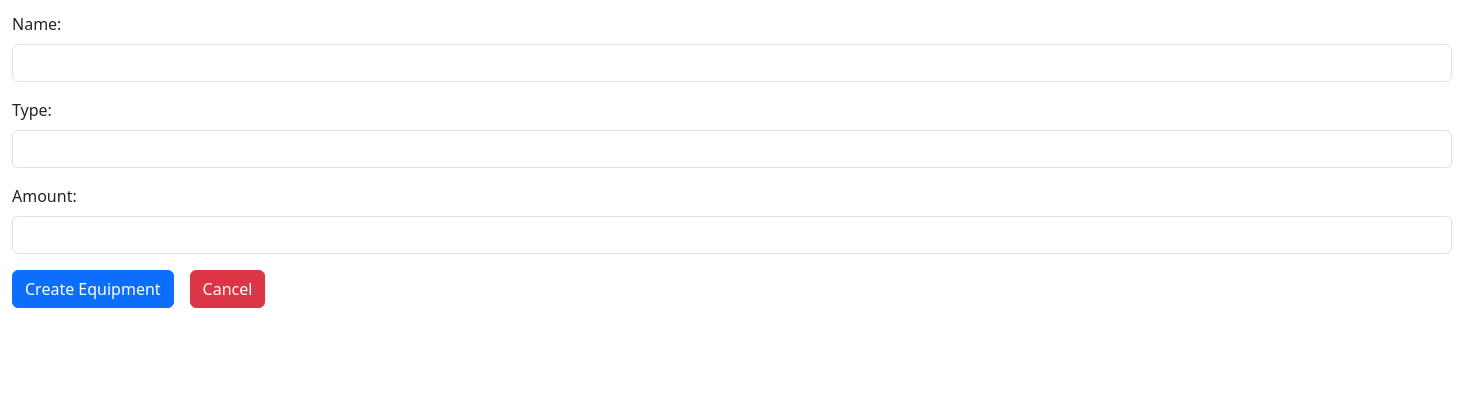
equipment creation and update pages › stays on the form and shows an error when creation fails
Type "Laptop" into the field labelled "Name:".
click(732, 63); type("Laptop")  # box [12,44,1452,82]
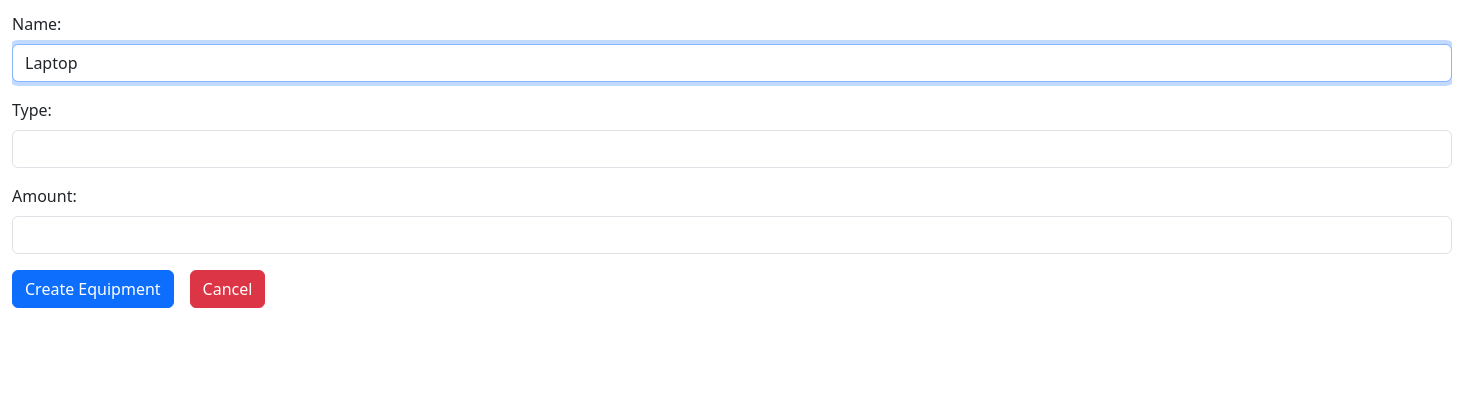
Type "Computer" into the field labelled "Type:".
click(732, 149); type("Computer")  # box [12,130,1452,168]
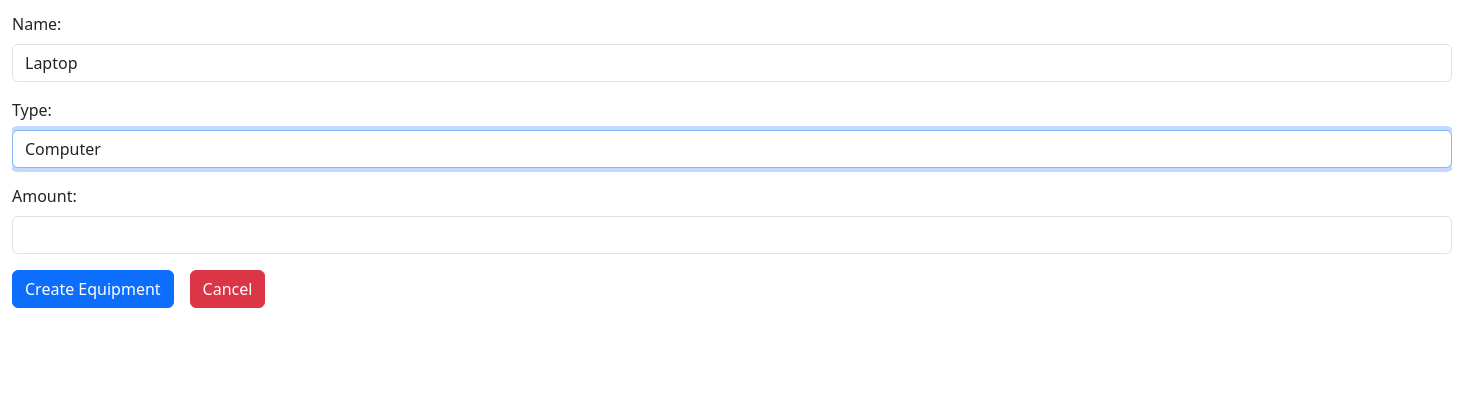
Type "2" into the number field labelled "Amount:".
click(732, 235); type("2")  # box [12,216,1452,254]
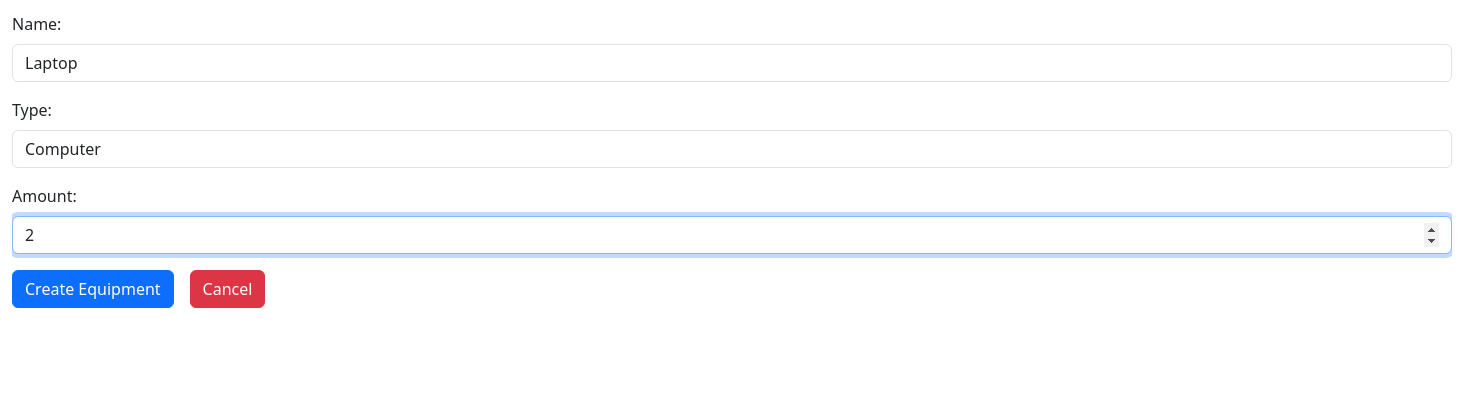
Click the button "Create Equipment".
click(93, 289)  # box [12,270,174,308]
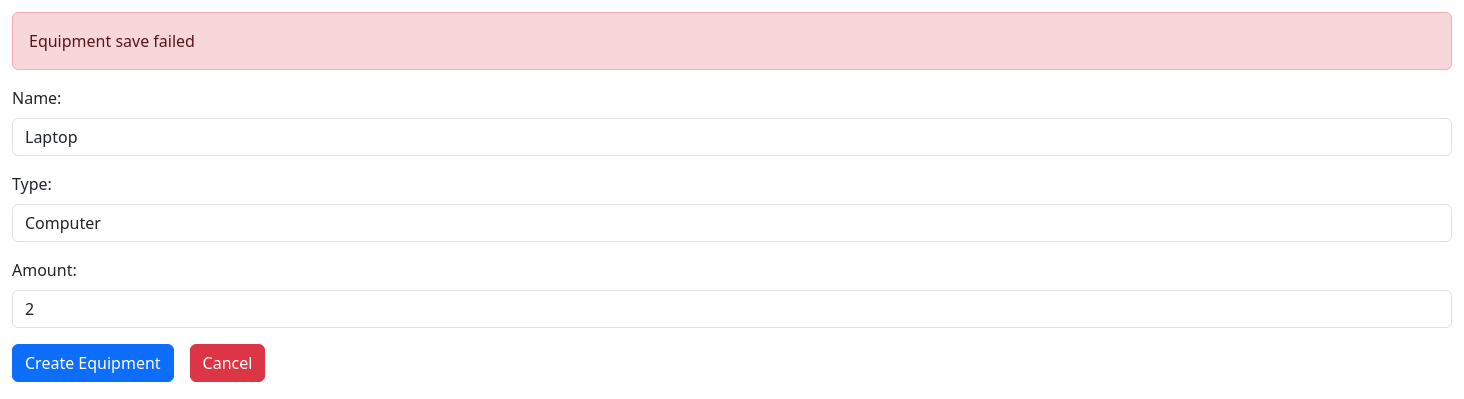
Expected: the button "Create Equipment" is enabled, [12,344,174,382]
Now the message reads "Equipment save failed", box [29,30,195,52]
